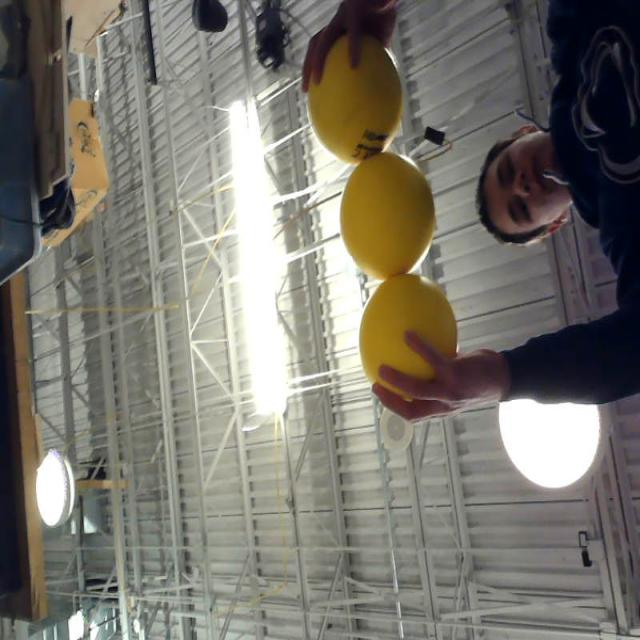Fuel: (359, 274, 457, 408), (306, 31, 403, 163), (339, 150, 436, 280)
